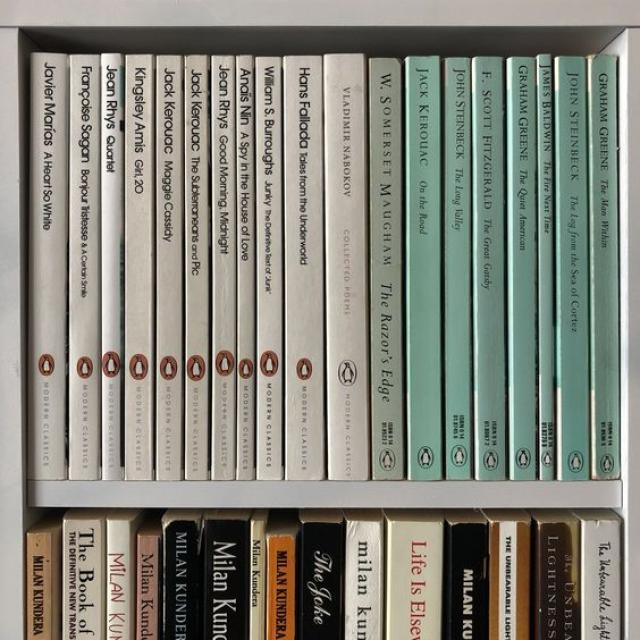book: (324, 54, 369, 480), (284, 57, 322, 480), (368, 58, 405, 480), (407, 56, 443, 480), (31, 52, 65, 480), (555, 57, 589, 480), (588, 55, 620, 478), (474, 57, 505, 480), (70, 55, 98, 478), (508, 57, 536, 480), (125, 54, 152, 480), (445, 57, 472, 480), (157, 55, 180, 481), (185, 56, 208, 480), (256, 57, 278, 480), (212, 57, 234, 479), (102, 53, 123, 480), (539, 54, 555, 480), (237, 56, 253, 480)
